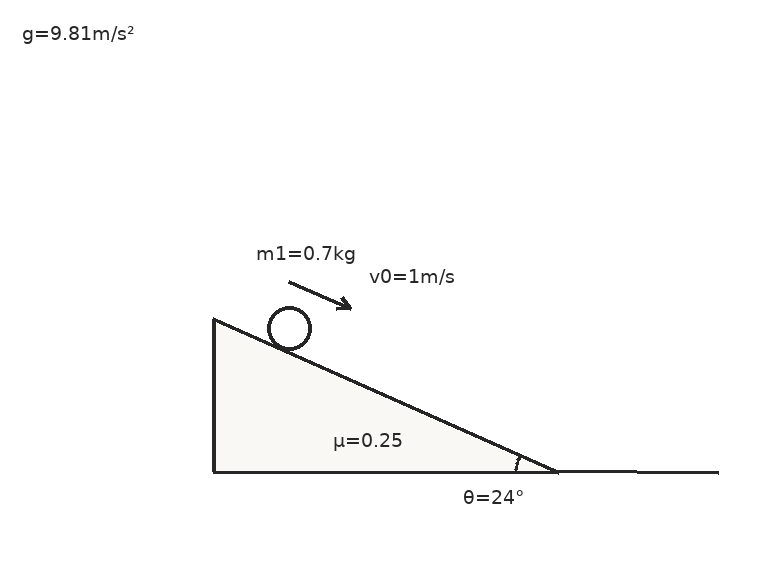ball: (265, 304, 313, 352)
ramp: (211, 316, 558, 473)
